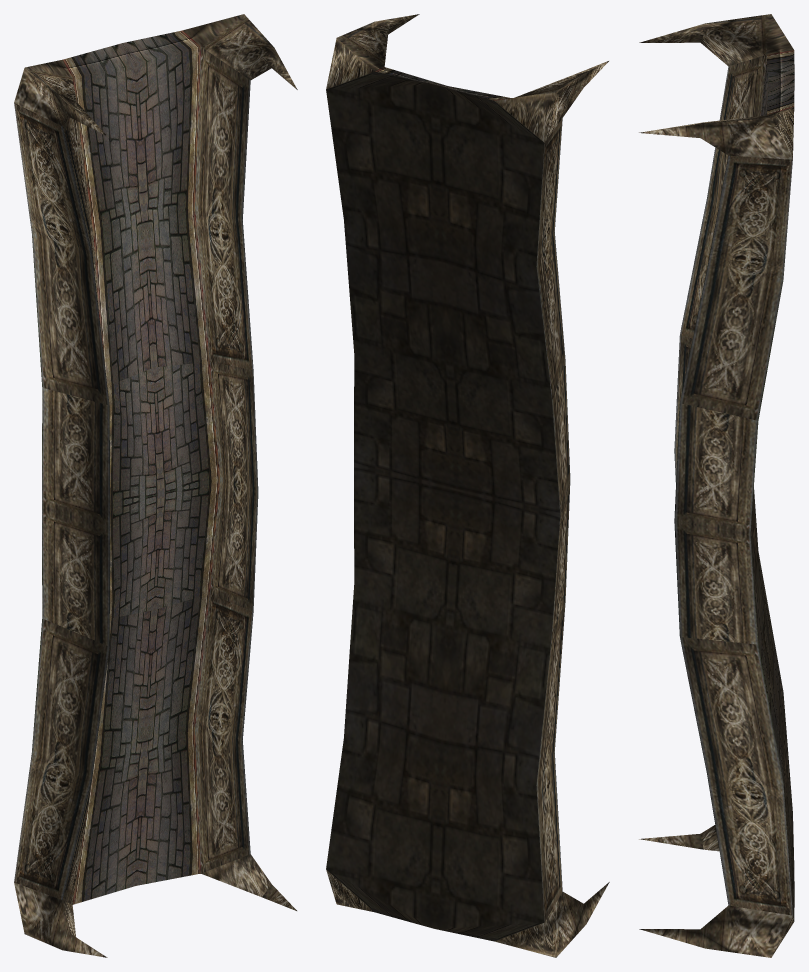
Rendered from bridge_09.obj.
3 views of the same model, side by side, from view 1: azimuth 30°, elevation 25°; view 2: azimuth 150°, elevation 25°; view 3: azimuth 270°, elevation 25° (orthographic). The views are drawn at different scales.
Parts seen in each view (by area): view 1: (null); view 2: (null); view 3: (null).
Boxes of the visible parts, x1,y1,x2,y2 form: (null): (14, 14, 297, 957); (null): (326, 14, 609, 957); (null): (639, 14, 794, 957).
Size of the model in its own units: 2.04 by 7.69 by 1.3.
